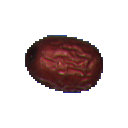gd: (15, 24, 123, 113)
